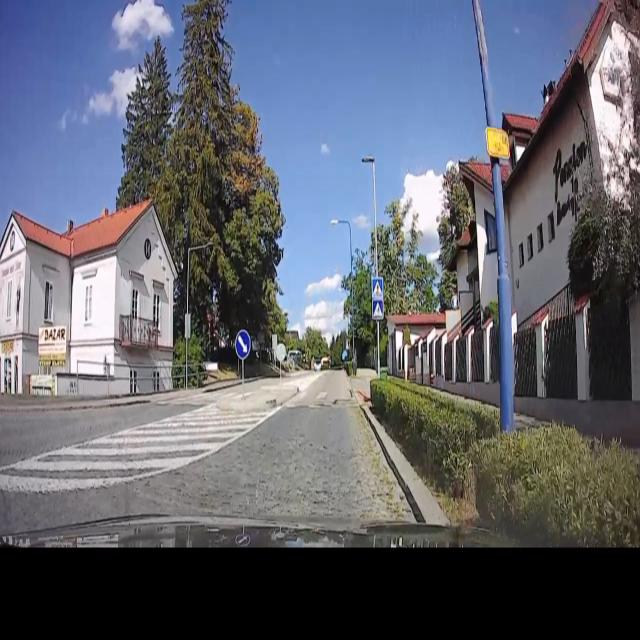Pedestrian crosswalk: (287, 384, 357, 410), (187, 384, 249, 404), (372, 274, 385, 299)
